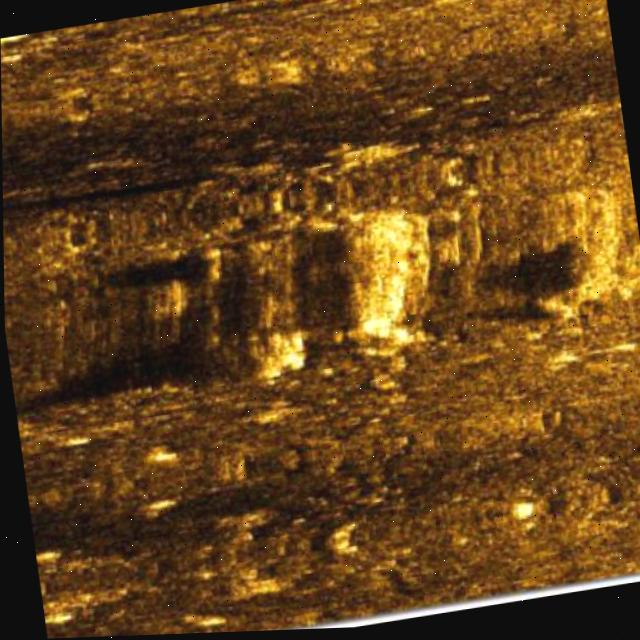bedrock group: (141, 116, 640, 407)
